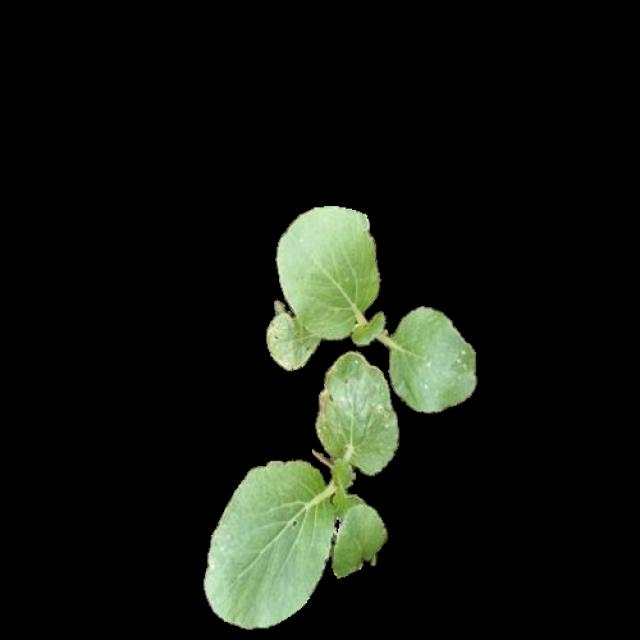not-mature: (204, 354, 400, 626), (267, 206, 478, 414)
unhealthy: (316, 356, 399, 477), (386, 307, 475, 411), (266, 311, 324, 369)
